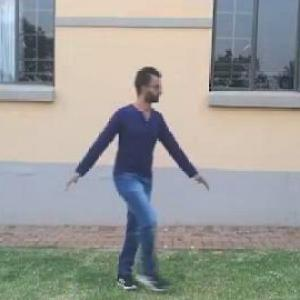land: (70, 79, 206, 258)
